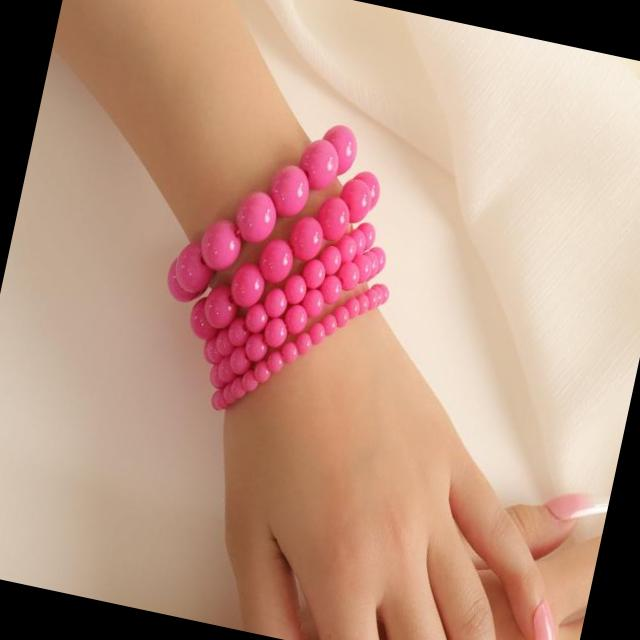Nail: (544, 493, 610, 519), (531, 602, 554, 640)
